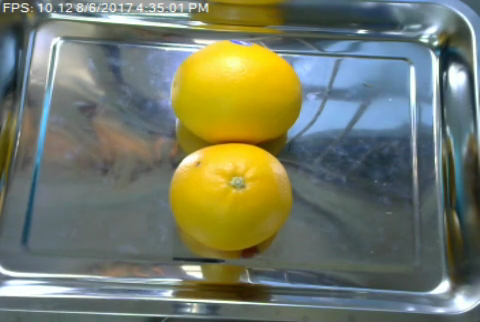Orange: (170, 38, 304, 143), (169, 142, 292, 249)
